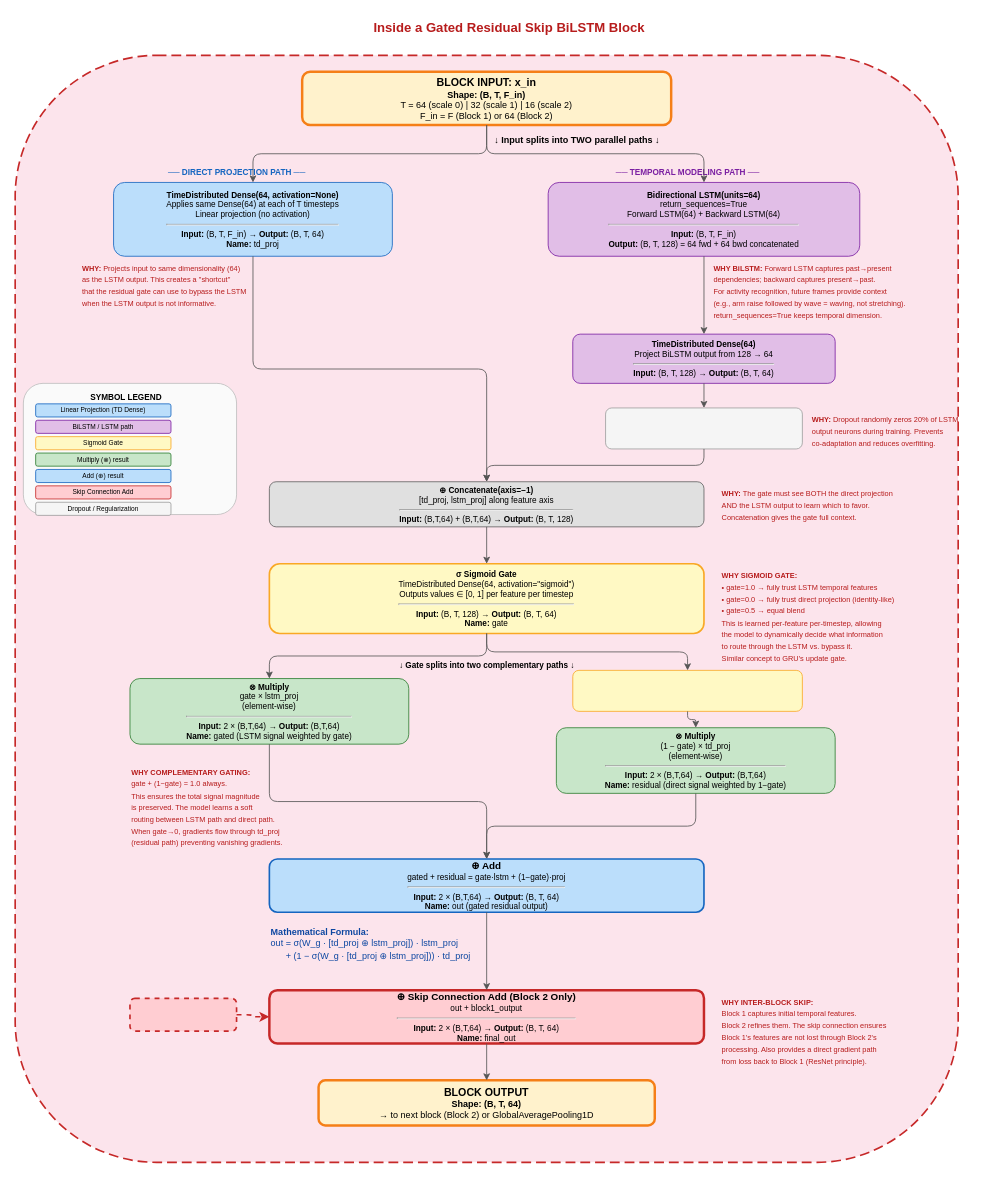
Some shapes in this 1005 by 1177 pixel diagram are drawn without their labels. The shapes that lost their labels are listed below. From the top down, each one's centre as x and y in pixels, then its label:
At point (703, 428): "Dropout(rate=0.2) In/Out: (B, T, 64) Name: lstm_proj".
At point (687, 690): "Lambda: 1.0 − gate Compute inverse gate In/Out: (B, T, 64)".
At point (183, 1014): "Block 1 output (external skip)".
